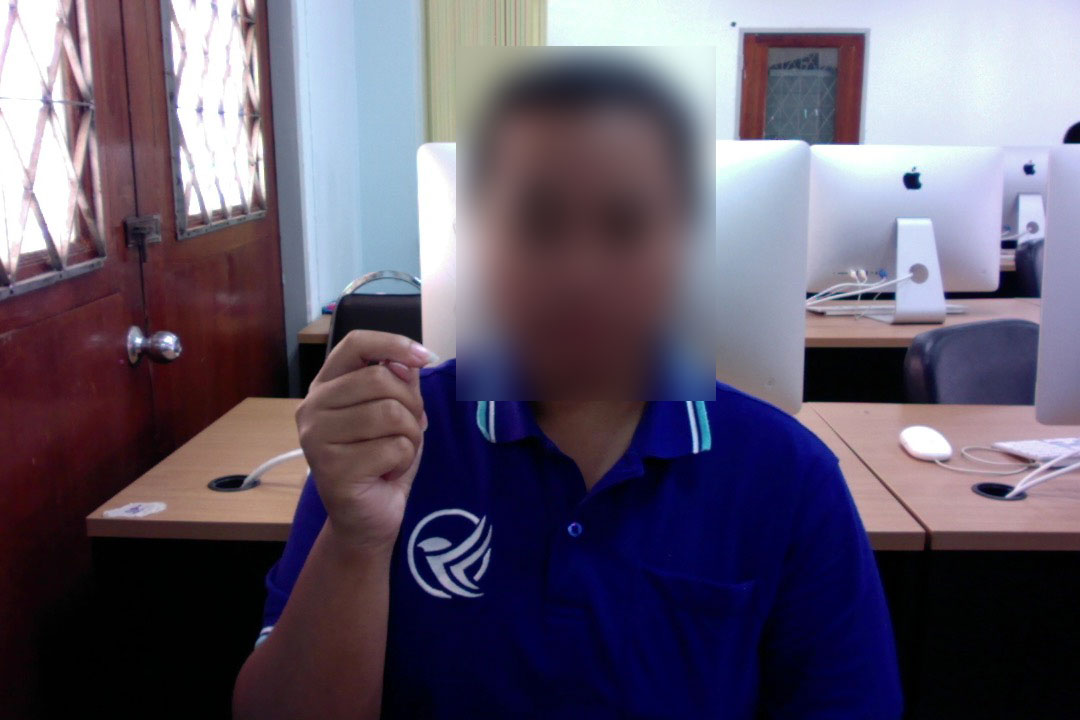tor: (275, 312, 453, 558)
